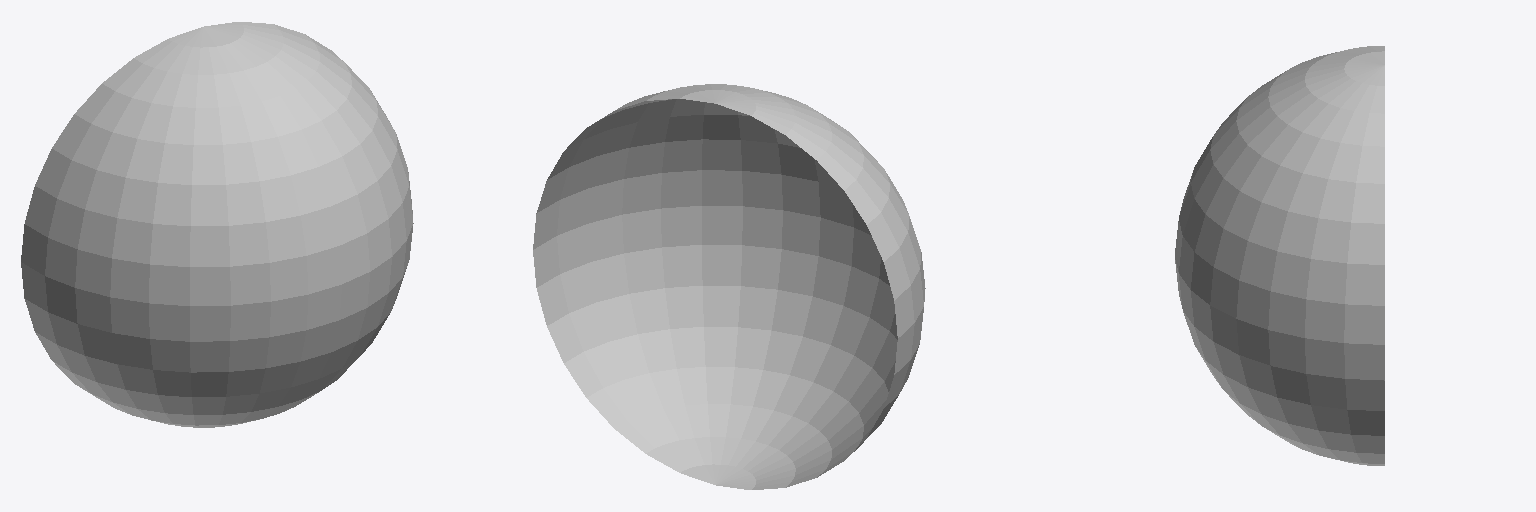
Rendered from halfSphere.obj.
3 views of the same model, side by side, from view 1: azimuth 30°, elevation 25°; view 2: azimuth 150°, elevation 25°; view 3: azimuth 270°, elevation 25° (orthographic).
Parts seen in each view (by area): view 1: Sphere; view 2: Sphere; view 3: Sphere.
Boxes of the visible parts, x1,y1,x2,y2 form: Sphere: [21, 22, 413, 427]; Sphere: [533, 84, 925, 489]; Sphere: [1175, 46, 1384, 465].
Size of the model in its own units: 1 by 1 by 0.5.